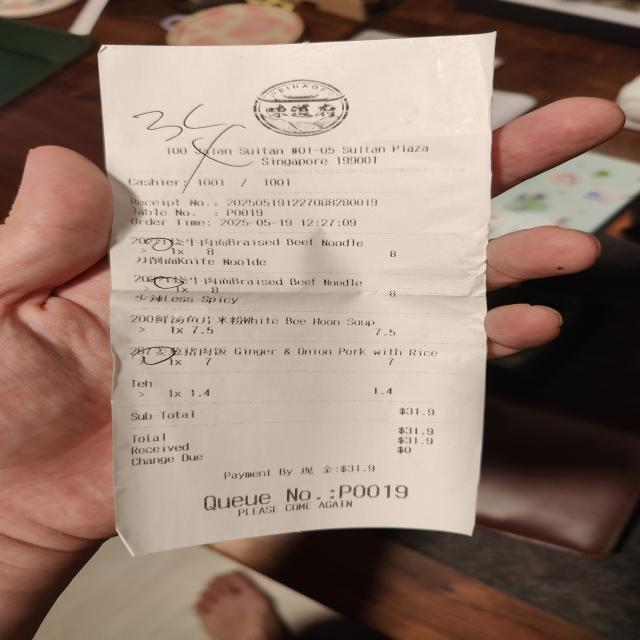bill_region: (114, 232, 443, 465)
